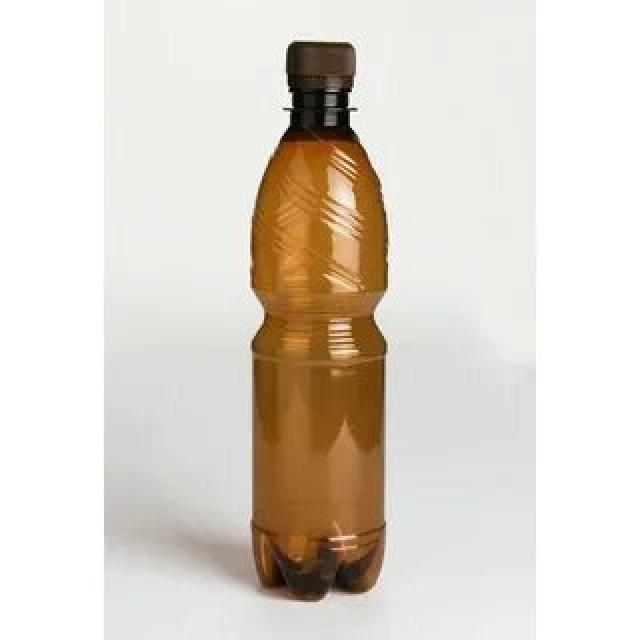brown: (248, 86, 390, 602)
